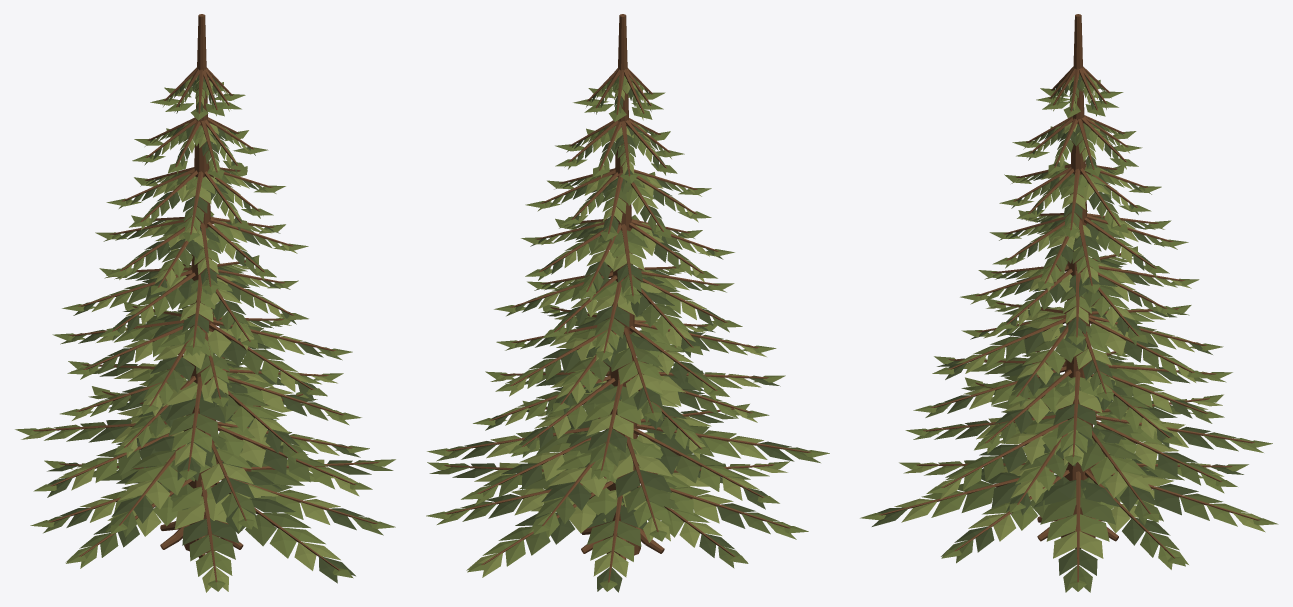
File: pine-2.glb
3 renders of one model, left to right at view 1: azimuth 30°, elevation 25°; view 2: azimuth 150°, elevation 25°; view 3: azimuth 270°, elevation 25°, orthographic. The views are drawn at different scales.
Parts seen in each view (by area): view 1: pine-2; view 2: pine-2; view 3: pine-2.
Part boxes in pixels (left/top/right/bottom): pine-2: left=15, top=14, right=395, bottom=592; pine-2: left=426, top=14, right=829, bottom=592; pine-2: left=860, top=14, right=1278, bottom=592.
Size of the model in its own units: 5.4 by 7.67 by 5.58.
